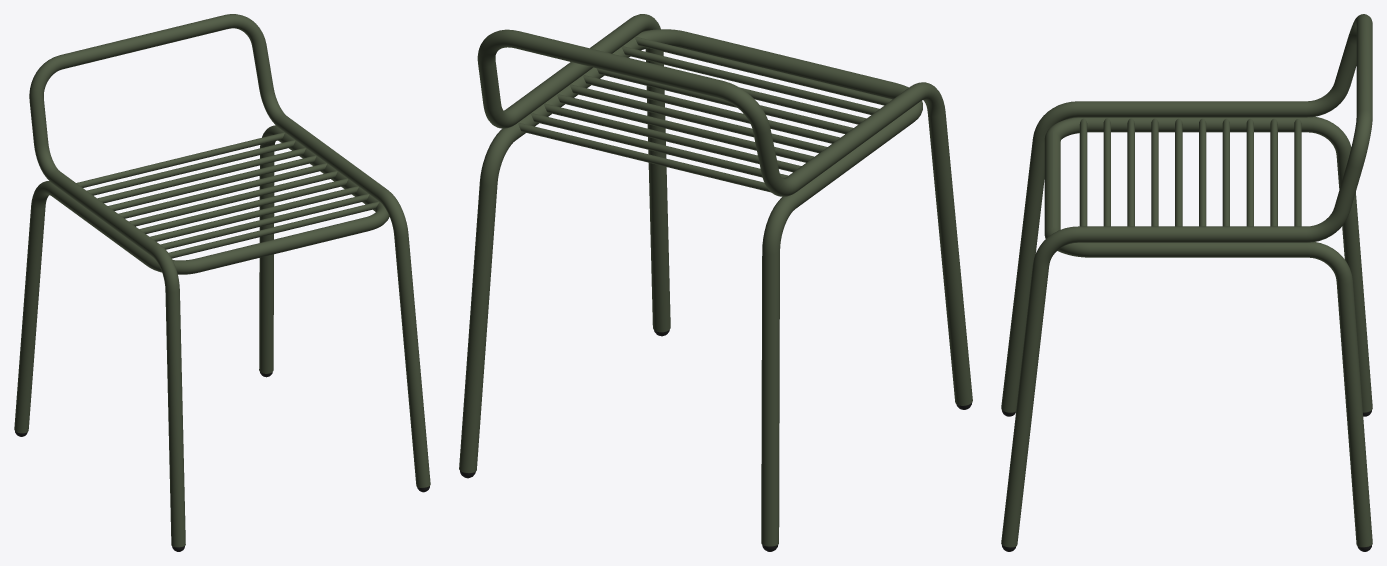
Rendered from duga-s.glb.
3 renders of one model, left to right at view 1: azimuth 30°, elevation 25°; view 2: azimuth 150°, elevation 25°; view 3: azimuth 270°, elevation 25°, orthographic. The views are drawn at different scales.
Parts seen in each view (by area): view 1: rb_duga_black; view 2: rb_duga_black; view 3: rb_duga_black.
Boxes of the visible parts, left/top/right/bottom form: rb_duga_black: left=14, top=14, right=430, bottom=551; rb_duga_black: left=459, top=14, right=972, bottom=551; rb_duga_black: left=1001, top=14, right=1372, bottom=551.
Size of the model in its own units: 0.4513 by 0.6218 by 0.4993.
